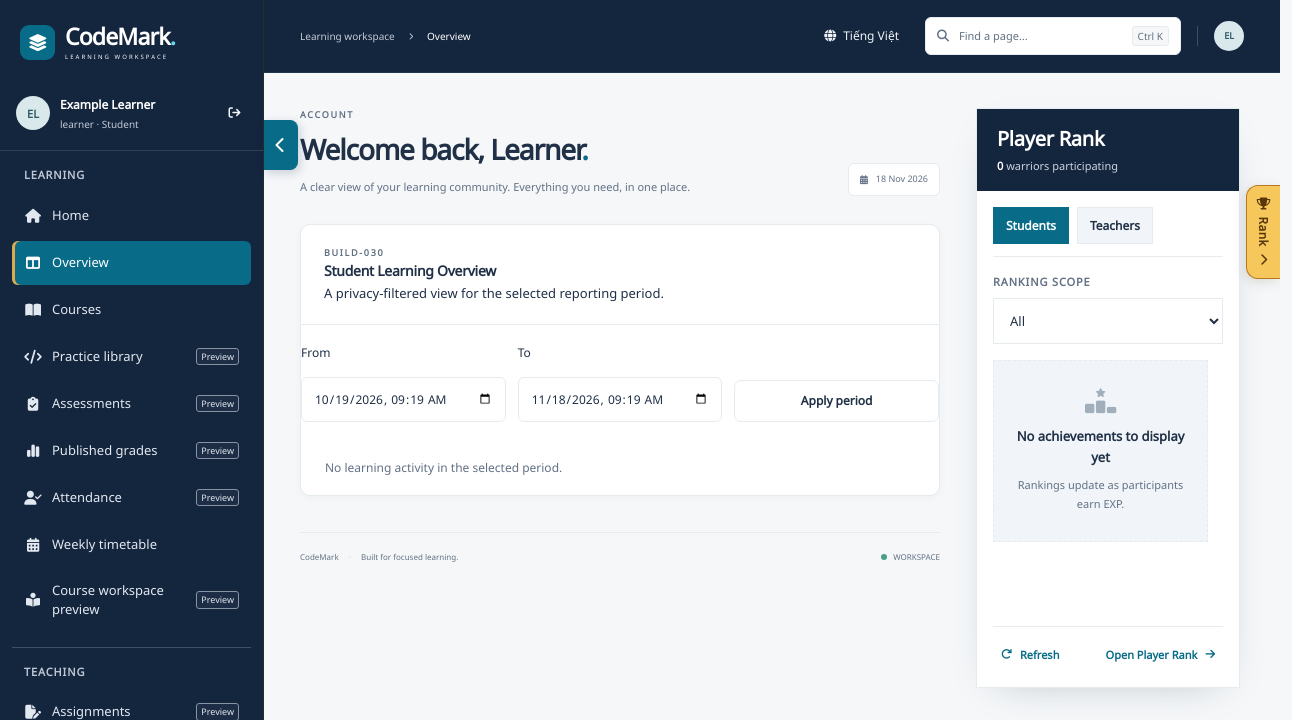
it: Workspace shell and clearly isolated previews › opens authorized page suggestions inline with Ctrl K and filters without a modal
This screenshot has width=1292, height=720.
Type keys "{Control>}k{/Control}"
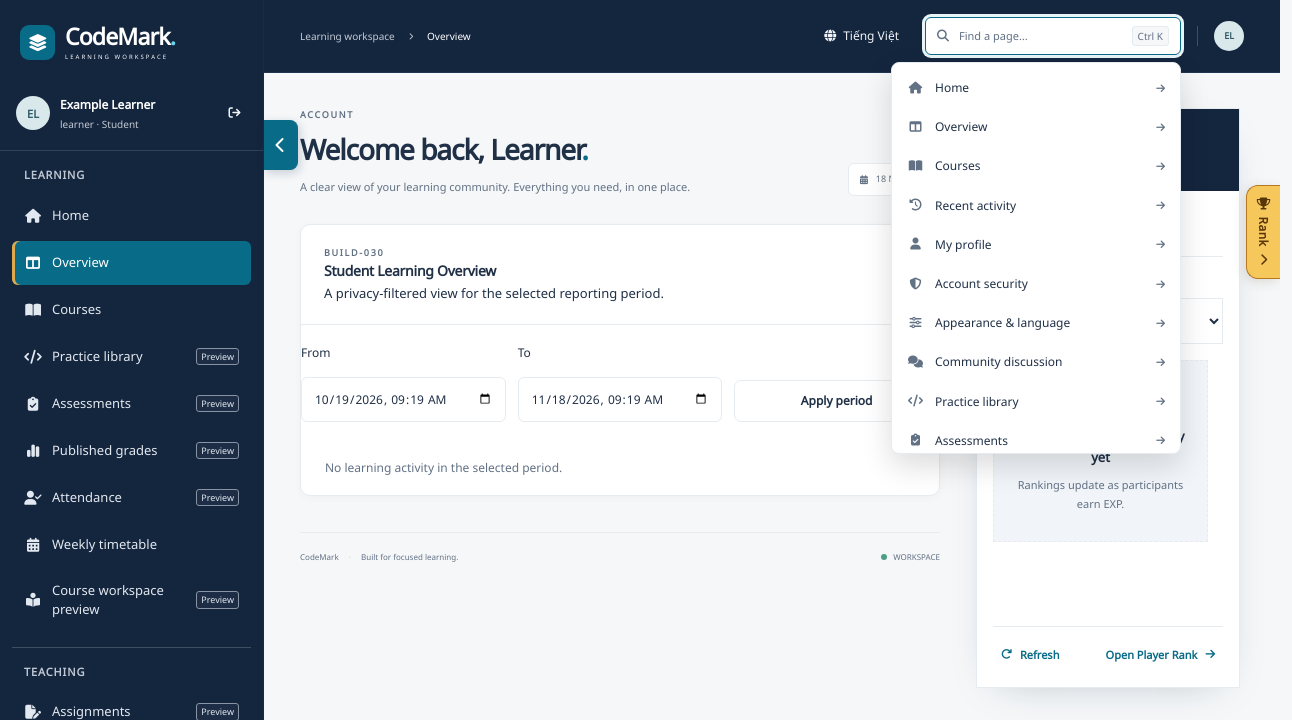
Type "Courses" into the dropdown labelled "Find a page…". click: (1040, 36)
box: [959,18,1122,54]
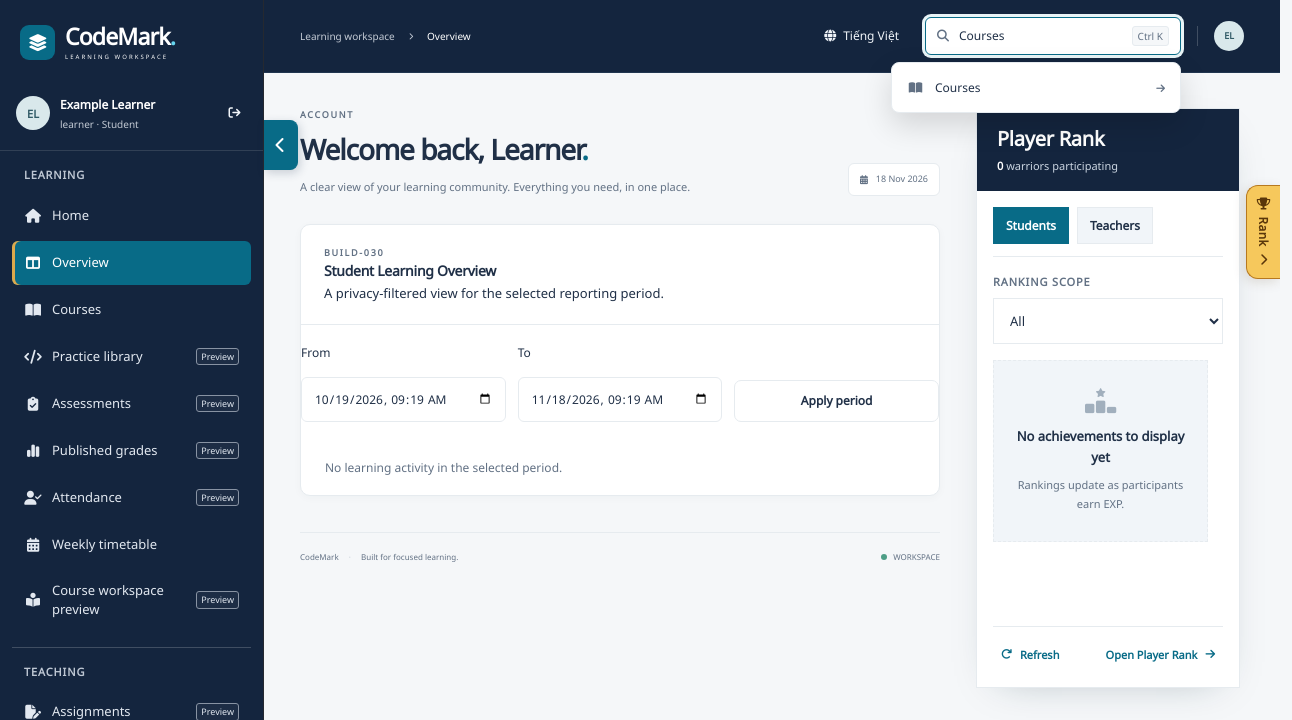
Result: the number of options is 1 at [907,79,1165,96]
Press Escape
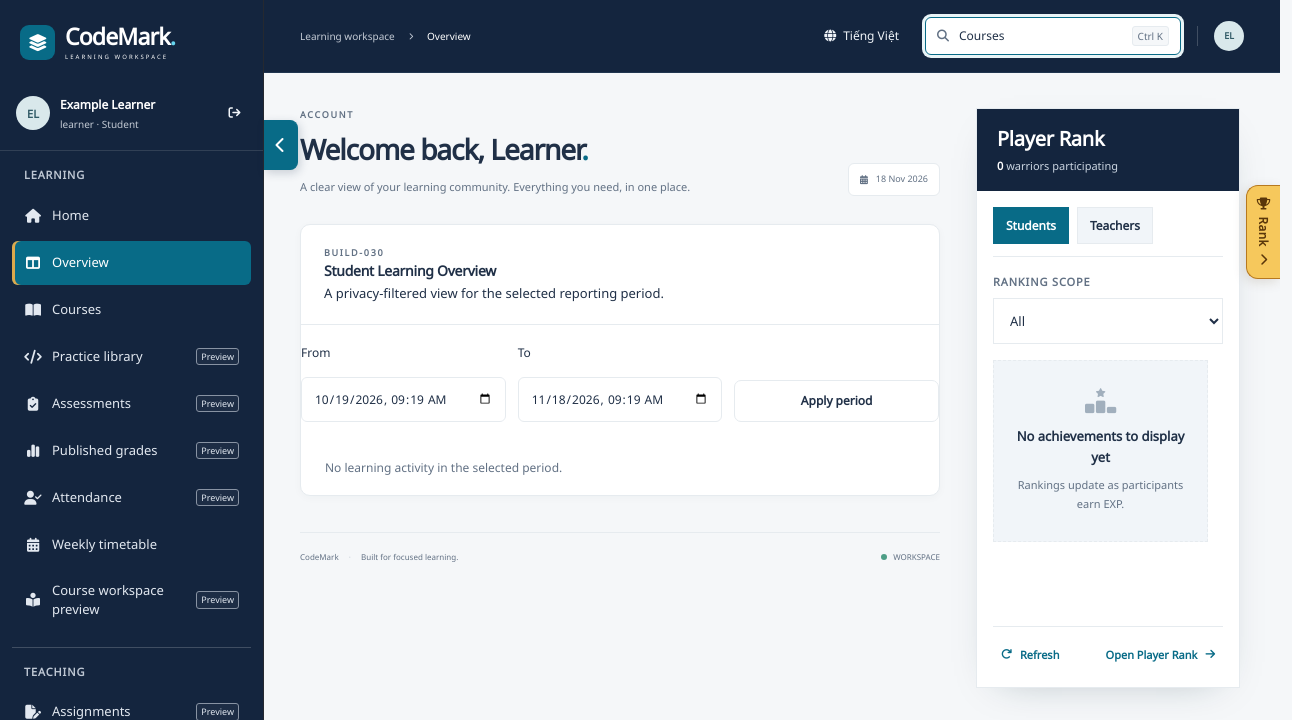
Result: the list is gone
Click the dropdown named "Find a page…". click: (1040, 36)
box: [959,18,1122,54]
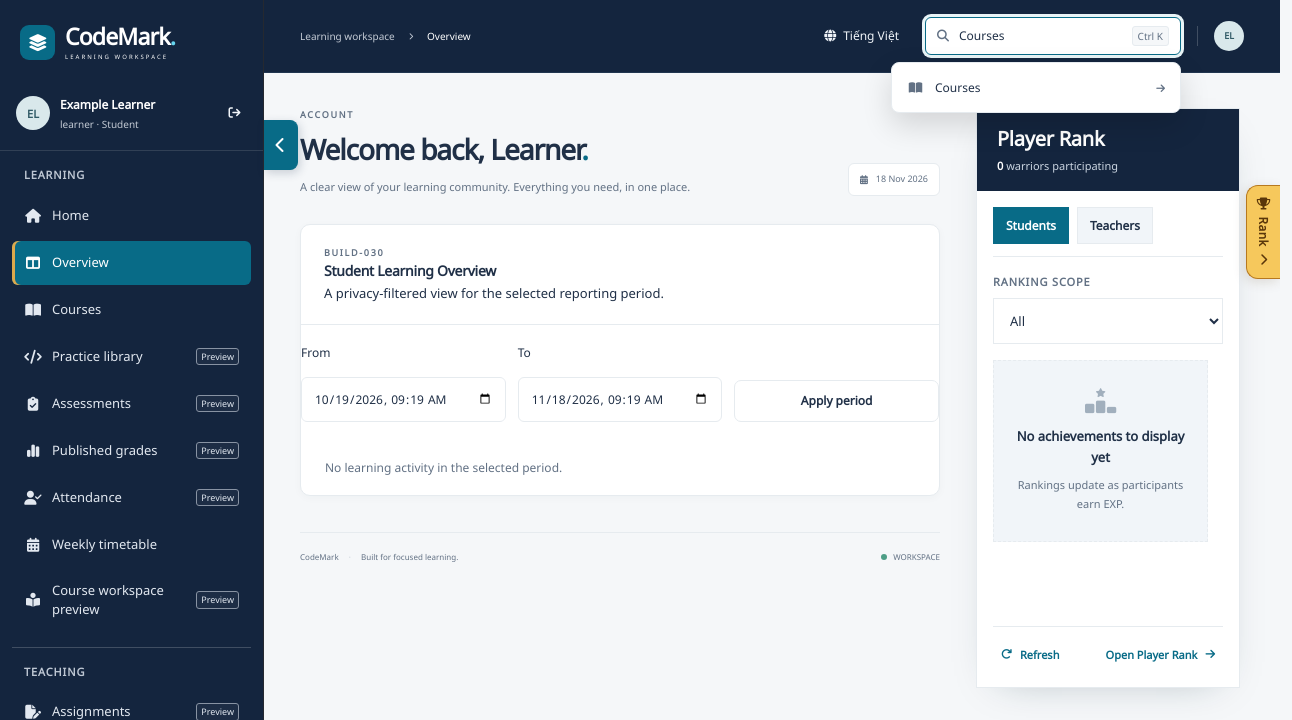
Result: the list is shown at [907,79,1165,96]
Click the heading "Welcome back, Learner.". click: (444, 149)
box: [300,130,588,168]
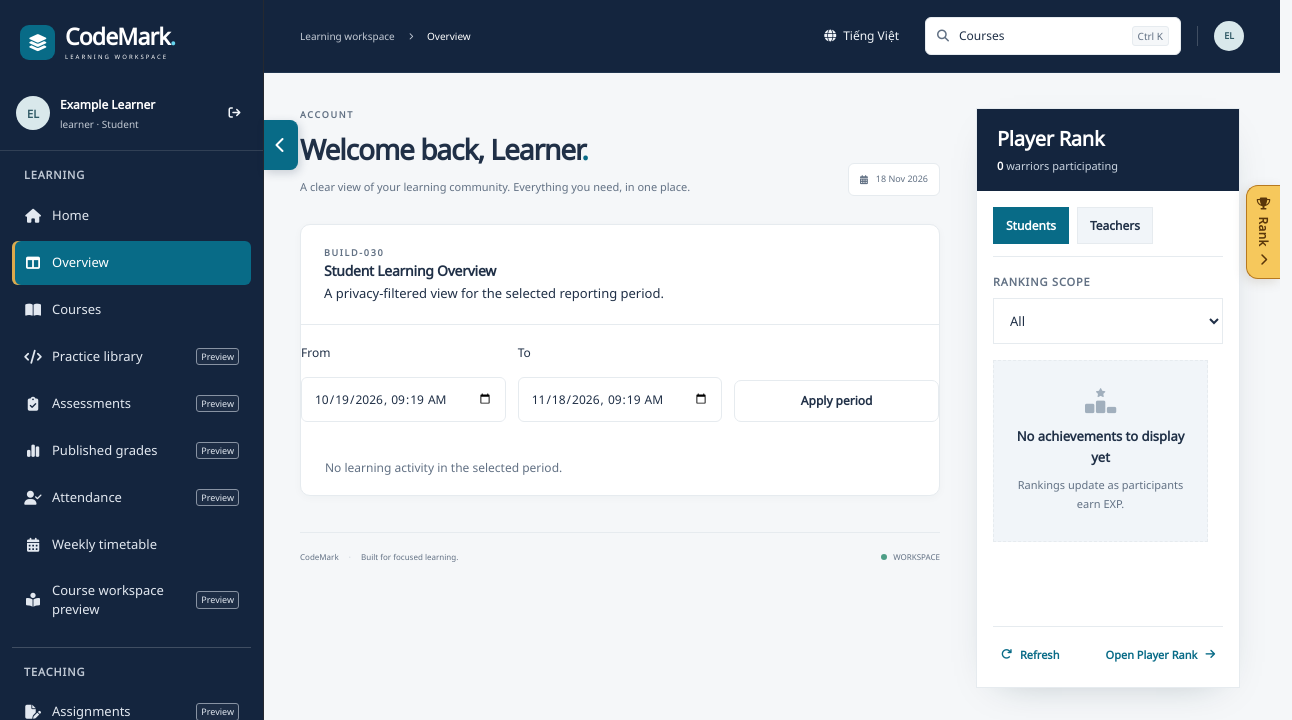
Result: the list is gone
